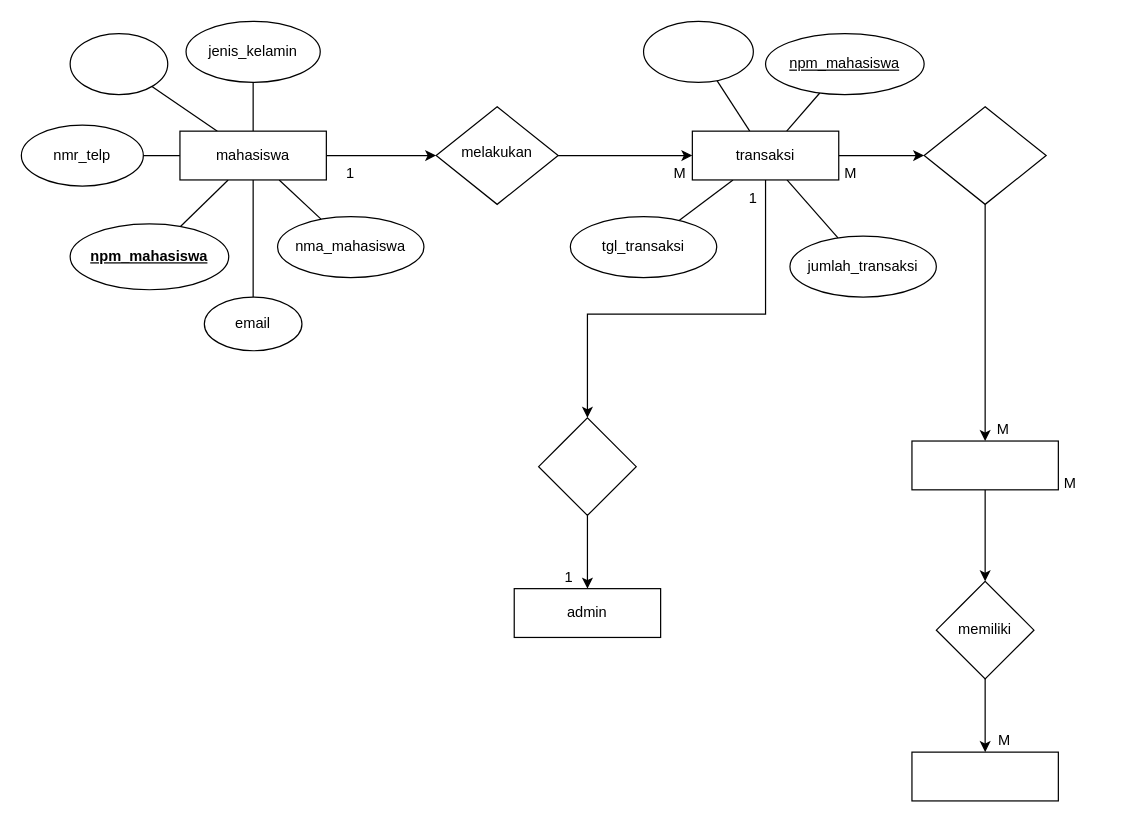
The diagram is 1129 pixels wide and 822 high, and some of its shapes have lost their labels. Here are the shapes that lost their labels. From the top down, the centre of each, then its label:
point (118, 63): prodi
point (697, 51): id_transaksi
point (984, 155): meminjam
point (586, 466): ditangani
point (984, 465): buku
point (984, 776): penerbit
